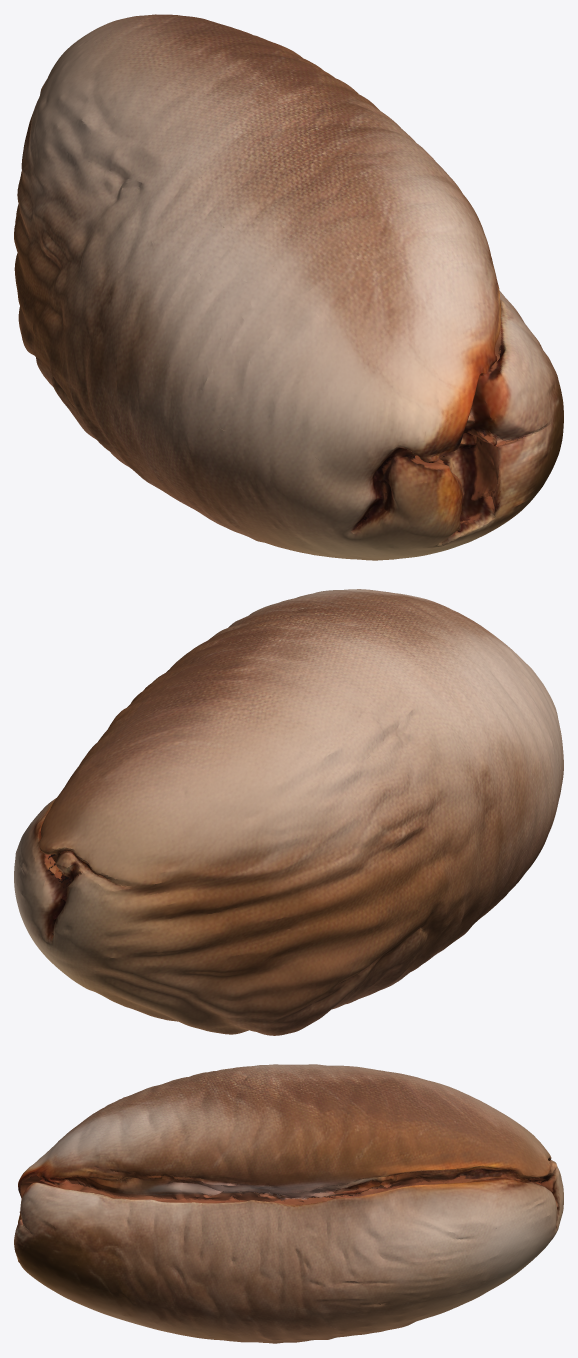
Rendered from coffee-grinder.glb.
The picture shows the model from 3 angles, top to bottom: view 1: azimuth 30°, elevation 25°; view 2: azimuth 150°, elevation 25°; view 3: azimuth 270°, elevation 25°; orthographic projection. The views are drawn at different scales.
Visible parts, largest first — view 1: model; view 2: model; view 3: model.
Part boxes in pixels (x1=…): model: x1=14, y1=14, x2=563, y2=560; model: x1=14, y1=589, x2=563, y2=1035; model: x1=14, y1=1064, x2=563, y2=1343.
Bounding box in the file's own units: 0.9834 × 0.9714 × 1.9.
1 material, 1 textured.
